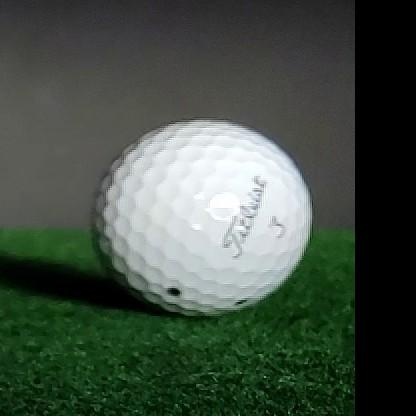golfball: (91, 119, 311, 316)
